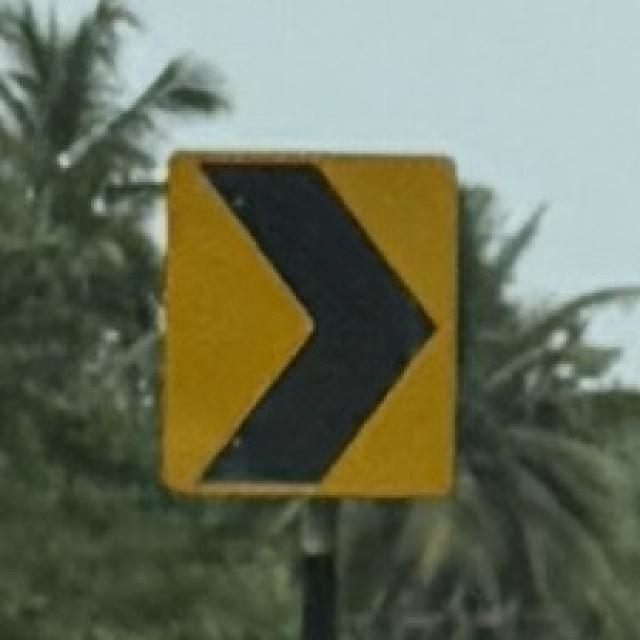TURN_RIGHT: (154, 144, 465, 503)
